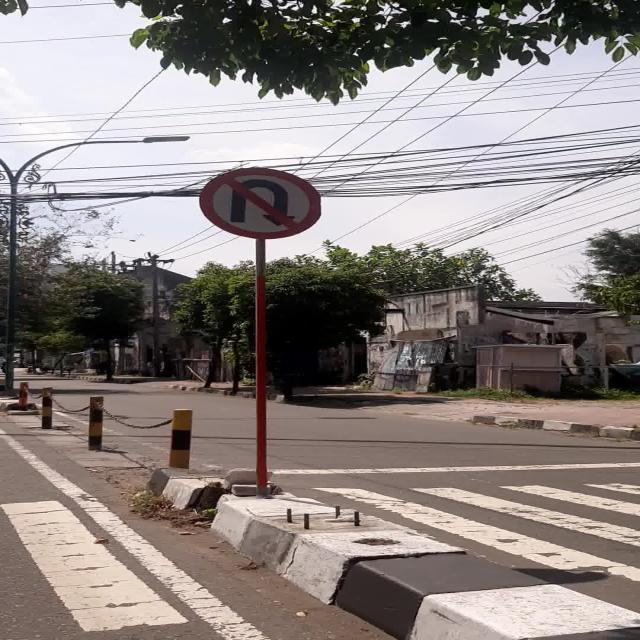Dilarang Putar Balik: (198, 167, 322, 240)
